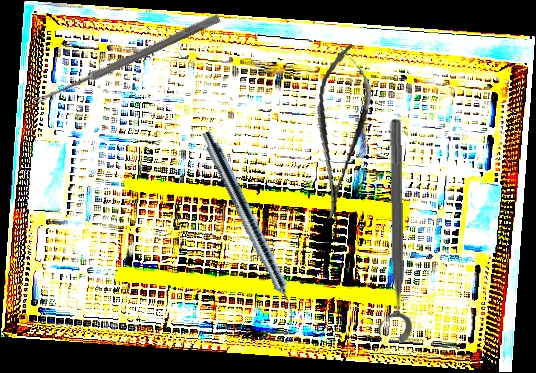Fixation Ring: (371, 118, 412, 345)
Handpiece: (195, 128, 305, 325)
Micro Scissor: (302, 41, 378, 223)
Surgical Spoon: (32, 12, 221, 108)
